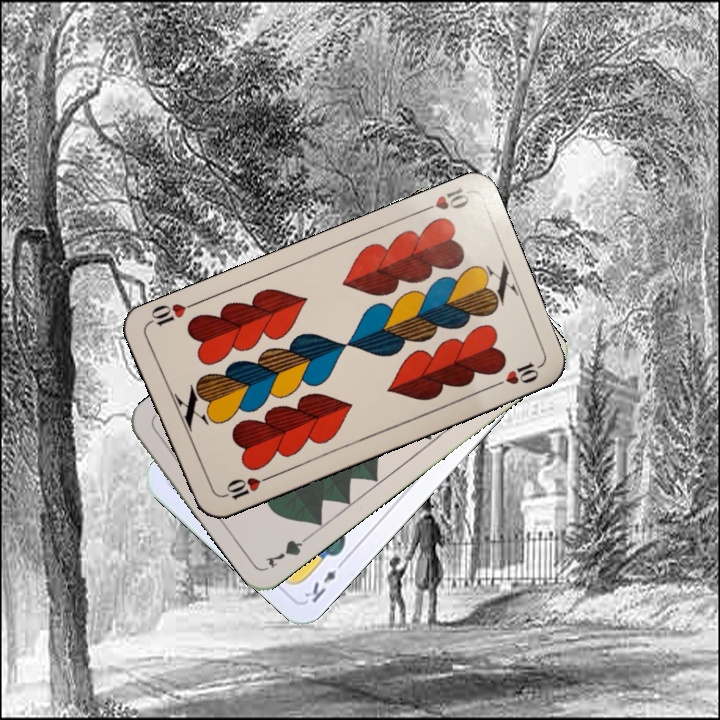EK: (300, 555, 348, 606)
G7: (261, 529, 315, 571)
H10: (414, 184, 472, 216), (216, 472, 273, 503)
